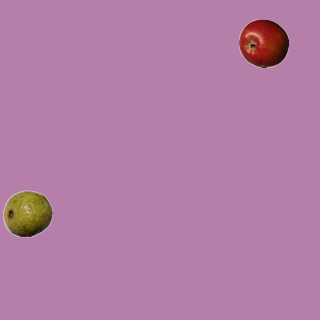Apple Braeburn: (238, 18, 288, 68)
Guava: (2, 188, 52, 238)
